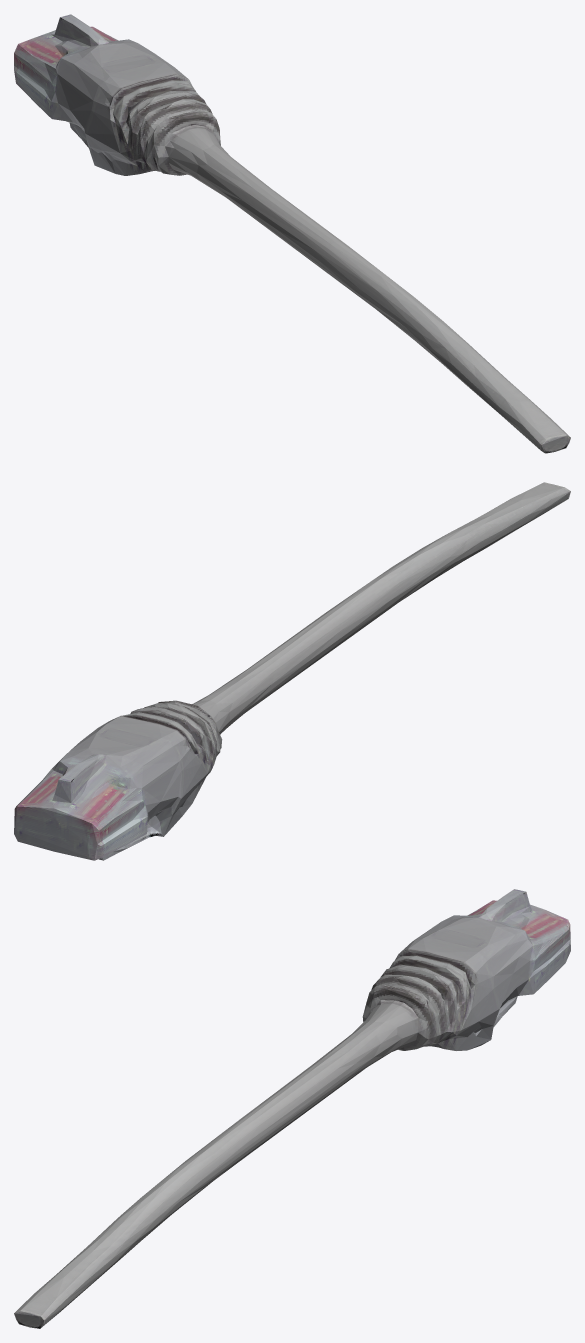
3 views of the same model, one above another, from view 1: azimuth 30°, elevation 25°; view 2: azimuth 150°, elevation 25°; view 3: azimuth 330°, elevation 25° (orthographic).
Parts seen in each view (by area): view 1: world; view 2: world; view 3: world.
Boxes of the visible parts, <box> form: world: <box>14,14,570,453</box>; world: <box>14,482,570,860</box>; world: <box>14,889,570,1328</box>.
Size of the model in its own units: 0.0788 by 0.0754 by 0.7004.
1 material, 1 textured.
